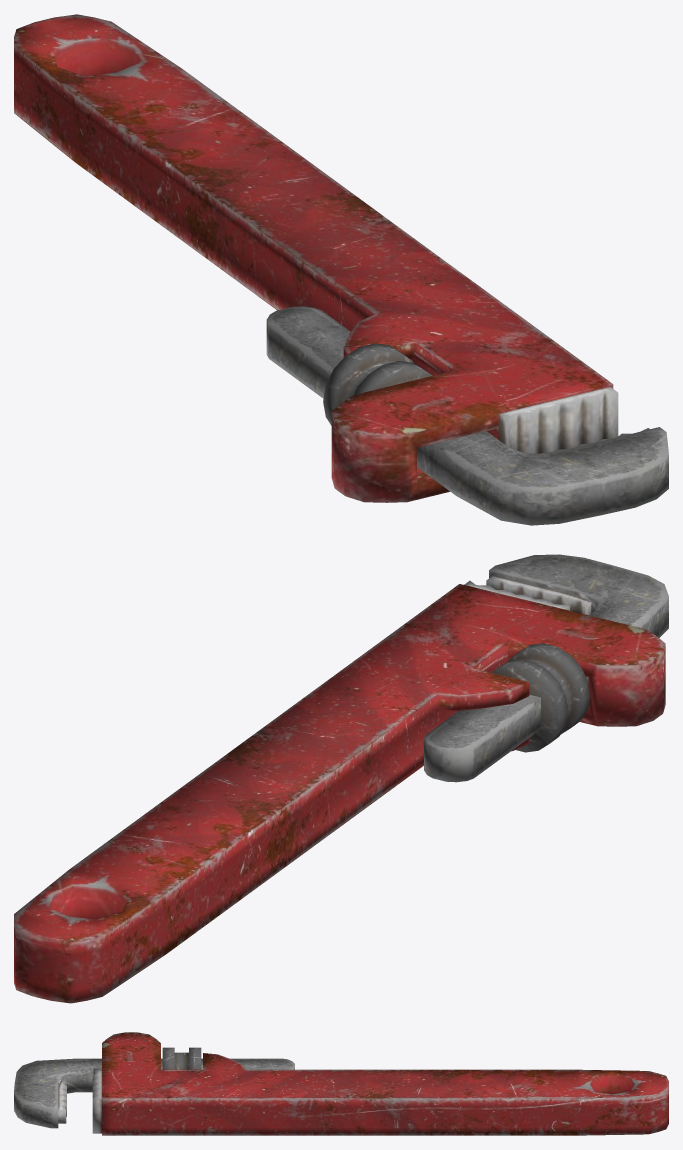
The model's file is Herr_llave_combinada.obj.
3 views of the same model, one above another, from view 1: azimuth 30°, elevation 25°; view 2: azimuth 150°, elevation 25°; view 3: azimuth 270°, elevation 25° (orthographic). The views are drawn at different scales.
Parts seen in each view (by area): view 1: Herr_llave_combinada; view 2: Herr_llave_combinada; view 3: Herr_llave_combinada.
Boxes of the visible parts, x1,y1,x2,y2 form: Herr_llave_combinada: (14, 14, 668, 525); Herr_llave_combinada: (14, 554, 668, 1003); Herr_llave_combinada: (14, 1032, 668, 1135).
Size of the model in its own units: 0.0697 by 0.024 by 0.2837.
Materials: 1 (1 with a texture image).
